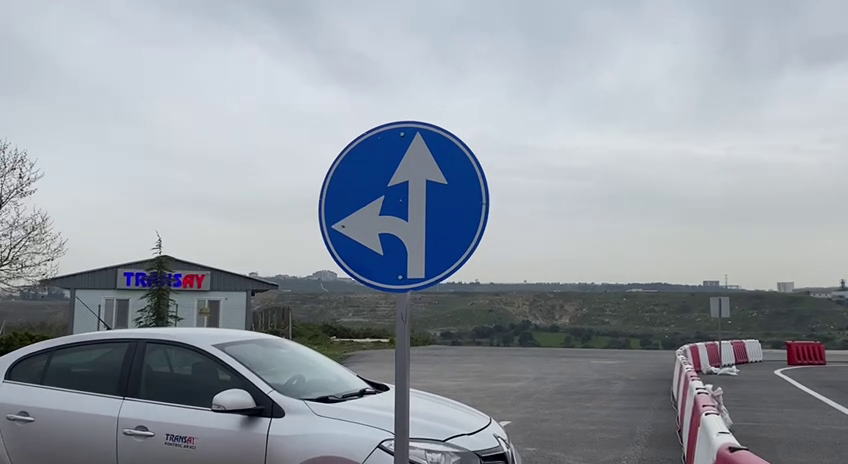forwardAndLeft: (314, 117, 491, 297)
